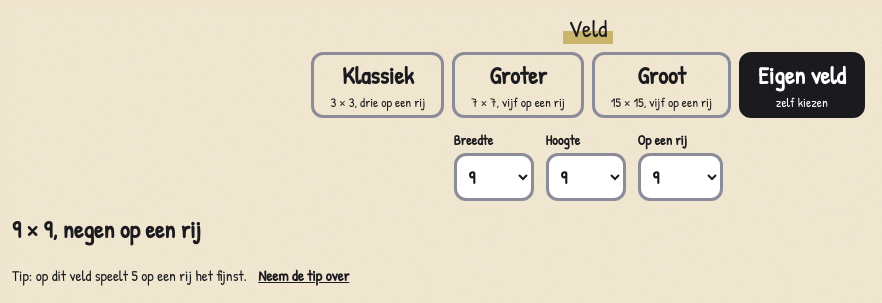
FieldPicker › only offers a row that fits on the field, and brings it down when the field gets smaller
Step 1. Select "5" in the dropdown labelled "Breedte" → [494, 177], box [454,153,534,201]
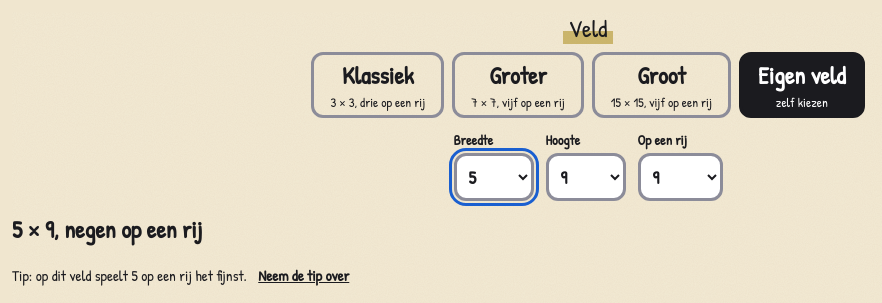
Step 2. Select "5" in the dropdown labelled "Hoogte" → [586, 177], box [546,153,626,201]
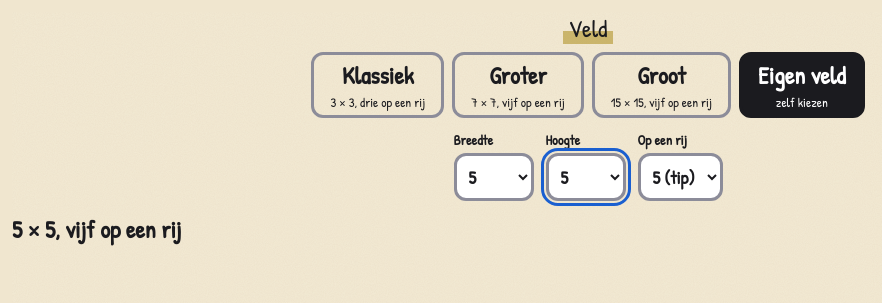
Now the dropdown labelled "Op een rij" shows "5 (tip)", box [638,153,722,201]
